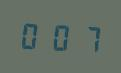seven: (73, 20, 99, 54)
zero: (18, 17, 44, 52), (46, 19, 72, 53)
